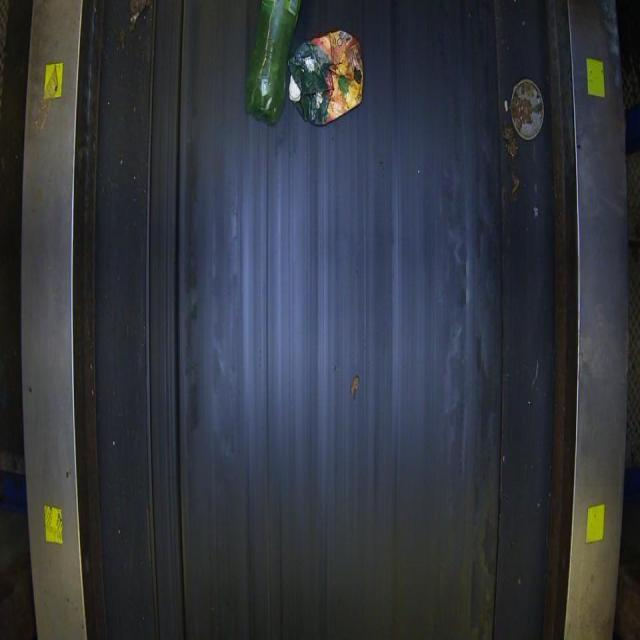bottles: (244, 0, 302, 126)
organic-waste: (287, 27, 364, 126)
trashbin: (9, 0, 633, 639)
